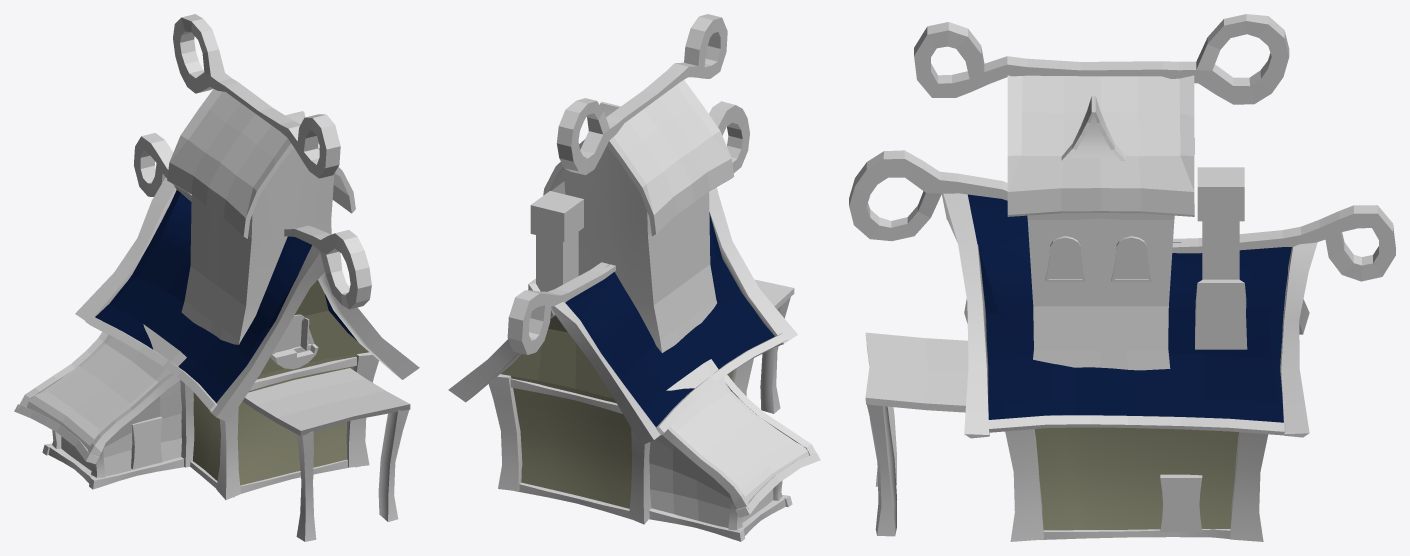
The model's file is L_HouseVar-1.fbx.
The picture shows the model from 3 angles, left to right: view 1: azimuth 30°, elevation 25°; view 2: azimuth 150°, elevation 25°; view 3: azimuth 270°, elevation 25°; orthographic projection. The views are drawn at different scales.
Visible parts, largest first — view 1: Object230, Box568, Object229, Box577, Object233, Box576, Object252, Object254, Object253, Object246, Object247, Object236 (+12 smaller); view 2: Box568, Object230, Object229, Box577, Box576, Box572, Object254, Object252, Object235, Object234, Object255, Object261 (+10 smaller); view 3: Box568, Object230, Box577, Box576, Box572, Object233, Object253, Object255, Object256, Object237, Object235, Object246 (+5 smaller).
Part boxes in pixels (left/top/right/bottom): Object230: left=167, top=89, right=355, bottom=344; Box568: left=95, top=190, right=368, bottom=485; Object229: left=26, top=324, right=186, bottom=476; Box577: left=173, top=14, right=340, bottom=178; Object233: left=242, top=368, right=410, bottom=436; Box576: left=134, top=133, right=371, bottom=309; Object252: left=209, top=245, right=324, bottom=422; Object254: left=75, top=177, right=176, bottom=320; Object253: left=318, top=271, right=419, bottom=379; Object246: left=378, top=410, right=409, bottom=521; Object247: left=296, top=431, right=316, bottom=541; Object236: left=216, top=407, right=240, bottom=499; Box568: left=501, top=213, right=774, bottom=508; Object230: left=543, top=80, right=733, bottom=352; Object229: left=649, top=359, right=809, bottom=527; Box577: left=556, top=14, right=727, bottom=175; Box576: left=507, top=101, right=749, bottom=354; Box572: left=528, top=191, right=583, bottom=291; Object254: left=551, top=302, right=660, bottom=445; Object252: left=709, top=187, right=797, bottom=346; Object235: left=488, top=374, right=522, bottom=491; Object234: left=629, top=428, right=651, bottom=524; Object255: left=448, top=308, right=555, bottom=402; Object261: left=656, top=333, right=788, bottom=438; Box568: left=968, top=194, right=1291, bottom=530; Object230: left=1007, top=75, right=1194, bottom=370; Box577: left=914, top=14, right=1289, bottom=104; Box576: left=849, top=150, right=1395, bottom=281; Box572: left=1195, top=167, right=1247, bottom=349; Object233: left=865, top=332, right=968, bottom=412; Object253: left=942, top=193, right=989, bottom=438; Object255: left=1280, top=242, right=1317, bottom=437; Object256: left=988, top=415, right=1288, bottom=435; Object237: left=1005, top=429, right=1044, bottom=541; Object235: left=1230, top=432, right=1268, bottom=541; Object246: left=867, top=404, right=897, bottom=536.
Bounding box in the file's own units: 626 × 853 × 864.
